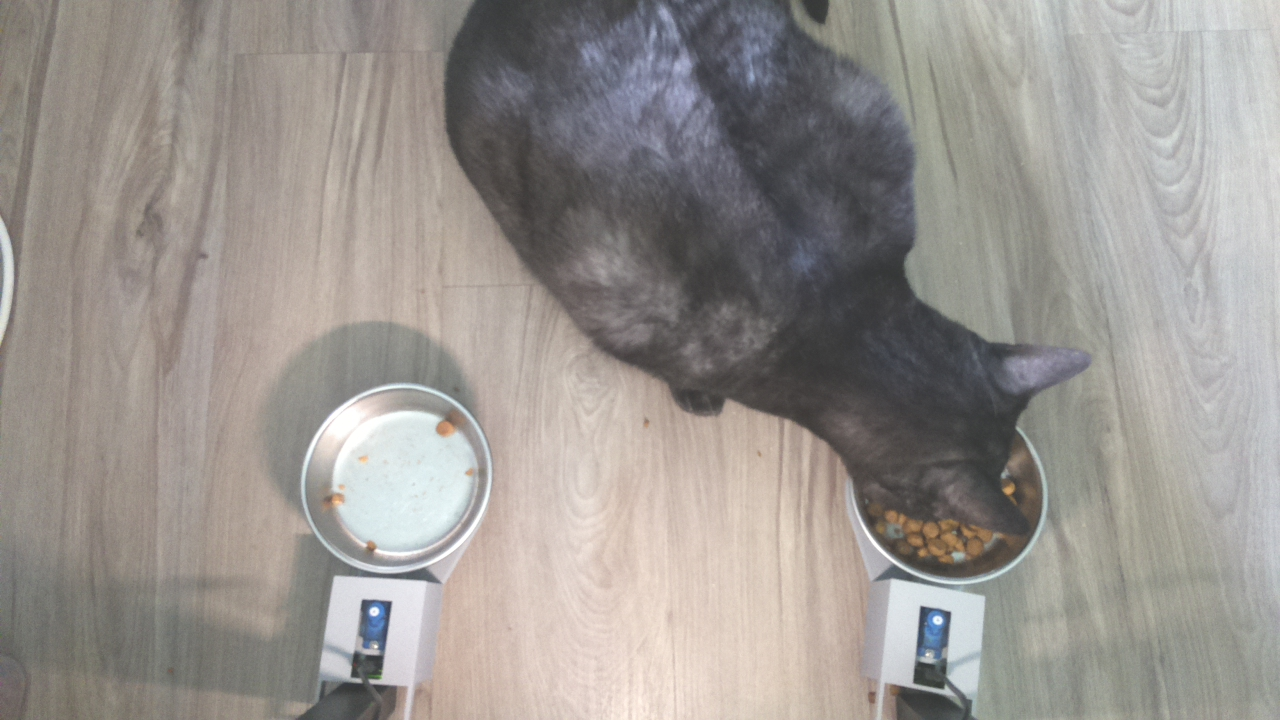open_bowl: (301, 380, 495, 578)
saki_eating: (814, 301, 1102, 549)
